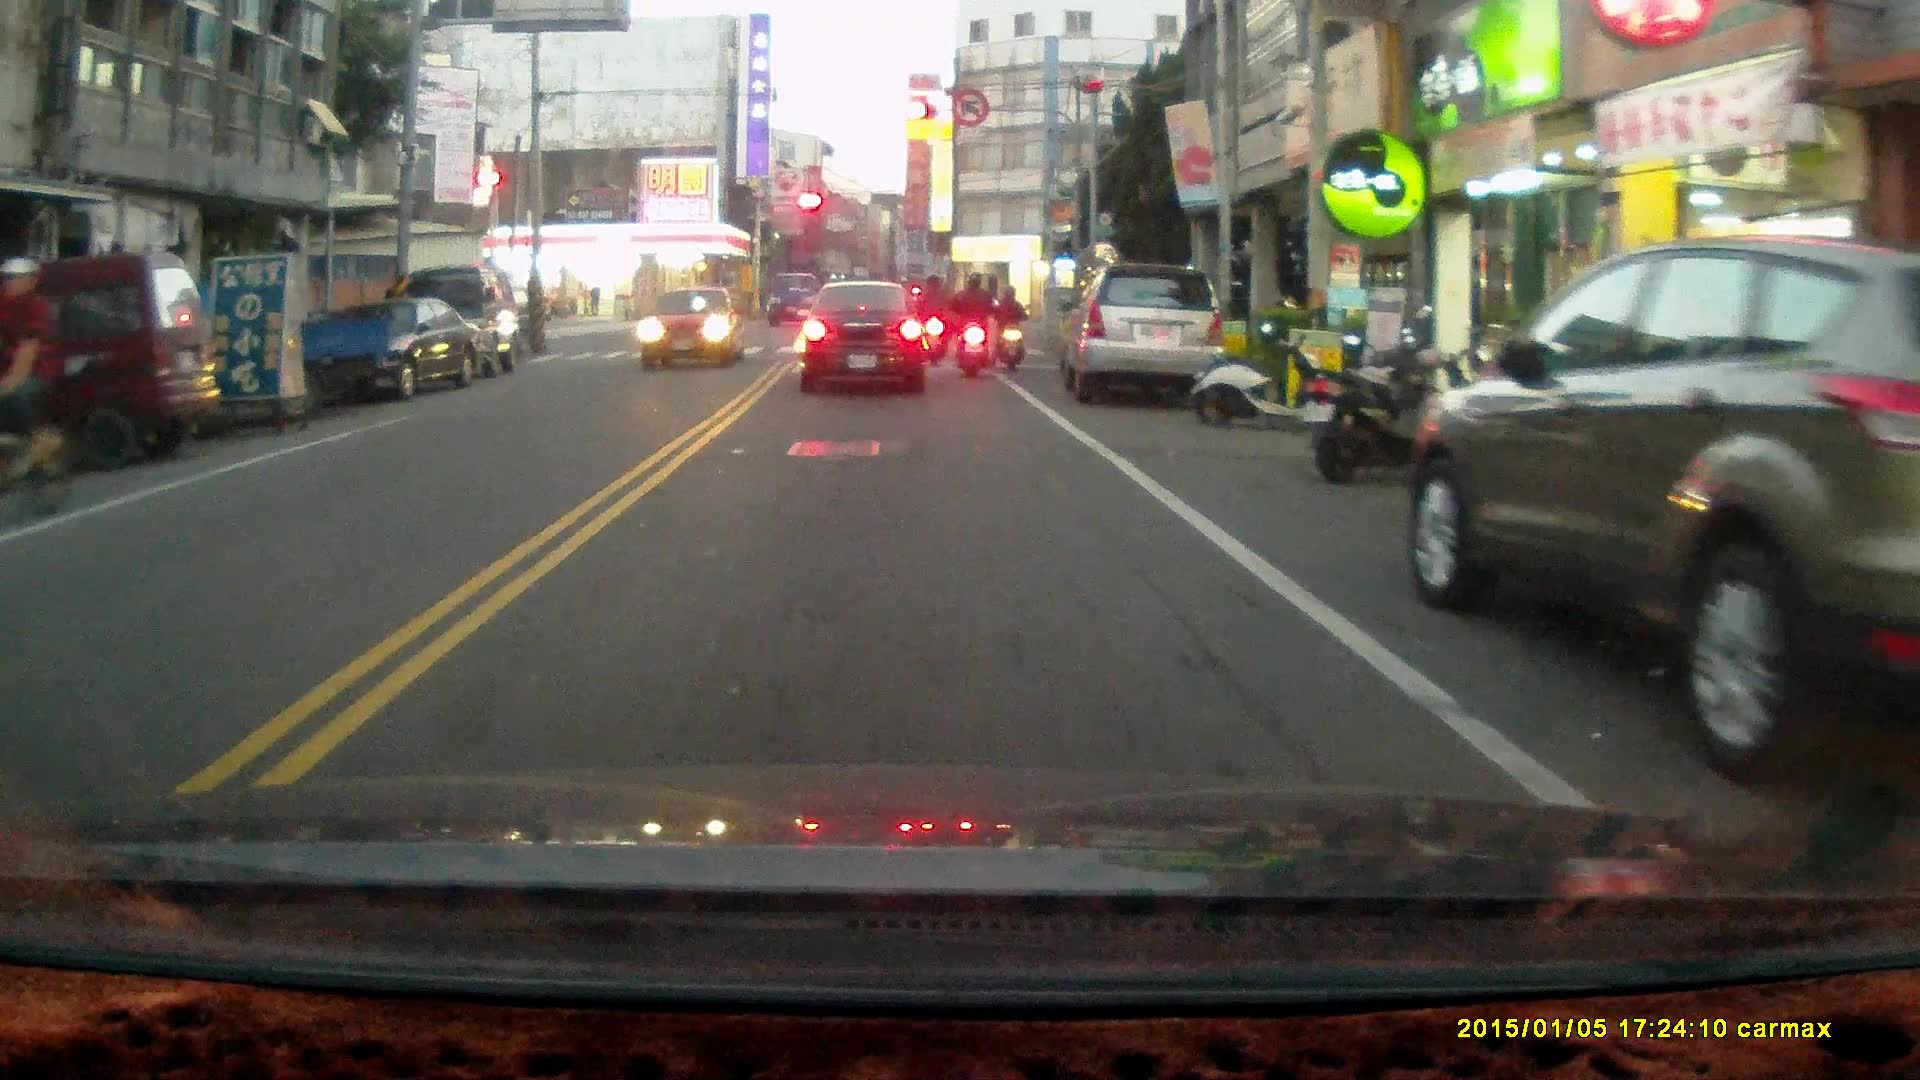rider: (0, 255, 75, 525), (949, 270, 998, 377), (915, 272, 949, 367), (993, 283, 1025, 371)
vehicle: (1415, 233, 1920, 806), (1, 251, 225, 475), (1056, 259, 1231, 411), (290, 294, 491, 402), (802, 277, 935, 394), (398, 260, 525, 381), (640, 284, 742, 369)
